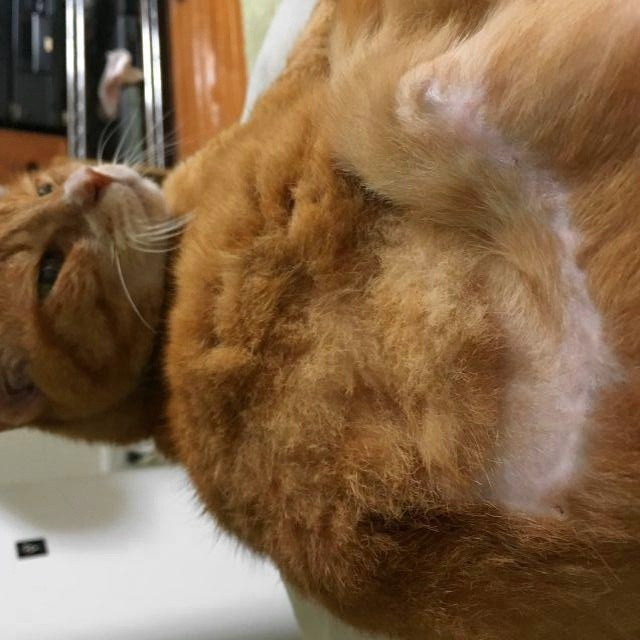hairloss: (489, 290, 602, 494)
